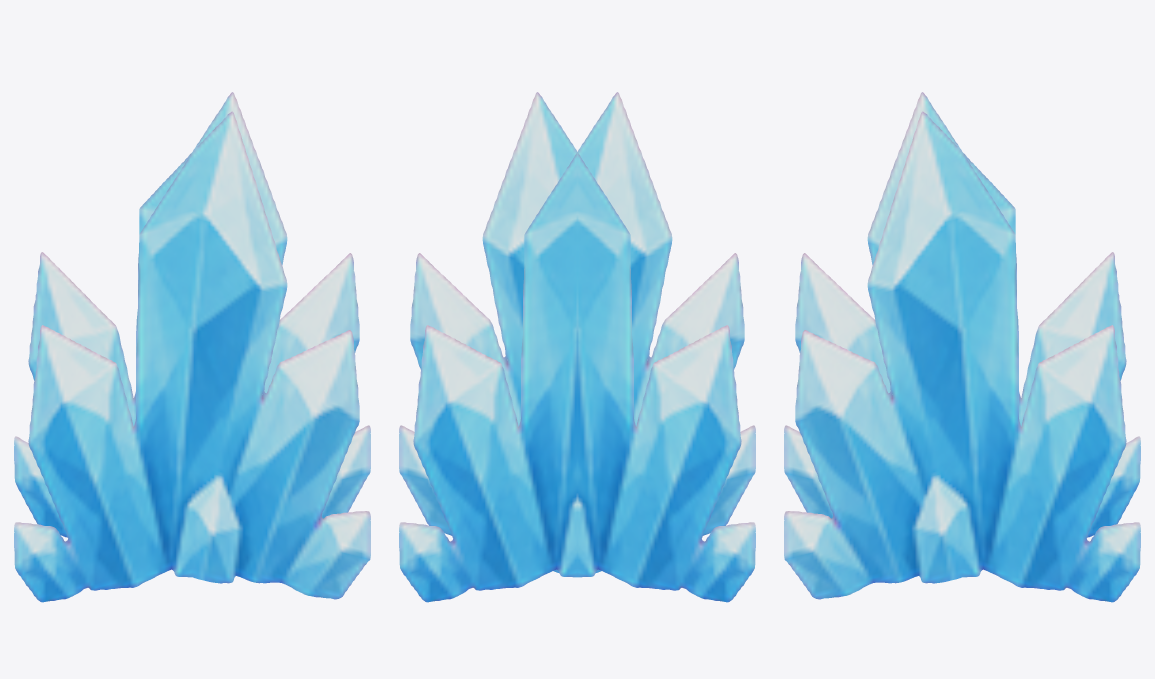
Rendered from h_givre_feuille.glb.
3 views of the same model, side by side, from view 1: azimuth 30°, elevation 25°; view 2: azimuth 150°, elevation 25°; view 3: azimuth 270°, elevation 25° (orthographic).
Visible parts, largest first — view 1: h_givre_feuille; view 2: h_givre_feuille; view 3: h_givre_feuille.
Boxes of the visible parts, box(x1,y1,x2,y2) form: h_givre_feuille: box(14, 92, 370, 602); h_givre_feuille: box(399, 92, 755, 602); h_givre_feuille: box(784, 92, 1140, 602).
Bounding box in the file's own units: 0.2507 × 0.32 × 0.2171.
Materials: 1 (1 with a texture image).
